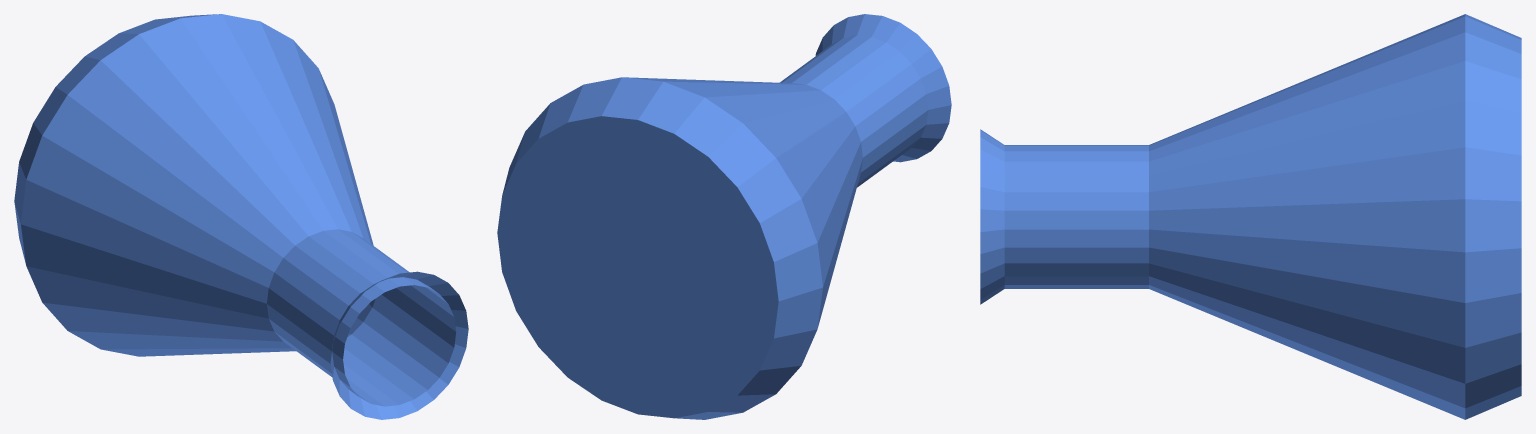
The picture shows the model from 3 angles, left to right: view 1: azimuth 30°, elevation 25°; view 2: azimuth 150°, elevation 25°; view 3: azimuth 270°, elevation 25°; orthographic projection. The views are drawn at different scales.
Parts seen in each view (by area): view 1: erlenmeyer flask; view 2: erlenmeyer flask; view 3: erlenmeyer flask.
Part boxes in pixels (x1,y1,x2,y2): erlenmeyer flask: (14, 14, 468, 419); erlenmeyer flask: (497, 14, 951, 419); erlenmeyer flask: (980, 14, 1521, 419).
Bounding box in the file's own units: 102 × 102 × 135.
